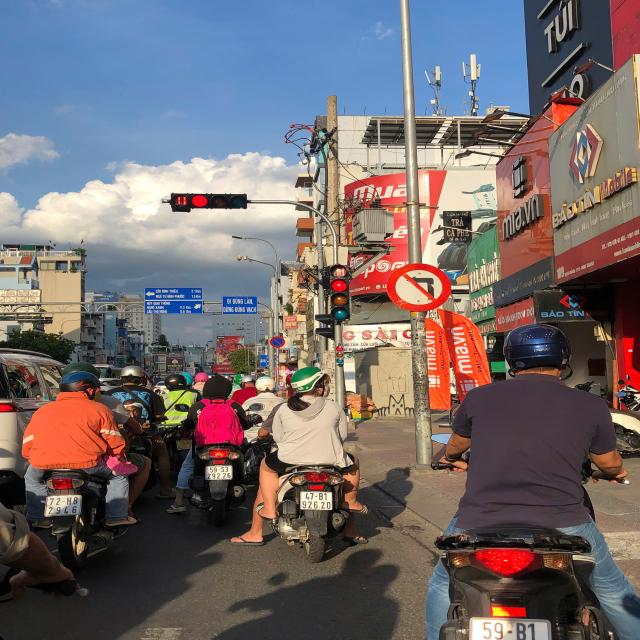Bien bao cam re trai: (382, 261, 455, 317)
